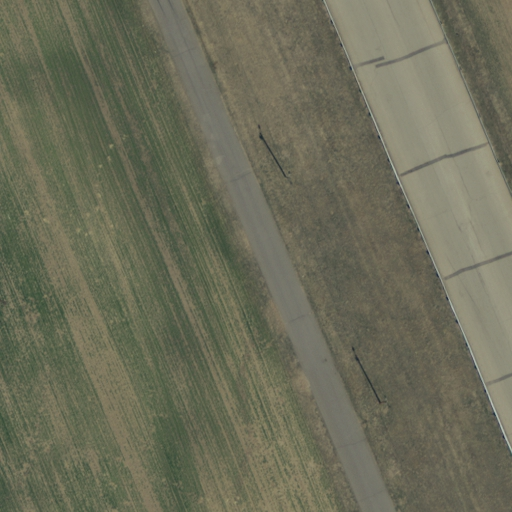DT: (276, 165, 303, 193), (371, 388, 398, 414)
